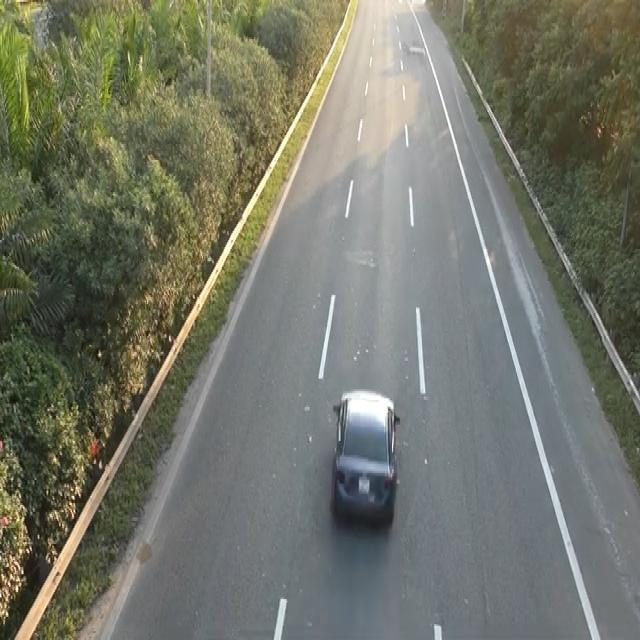bus: (328, 382, 402, 526)
